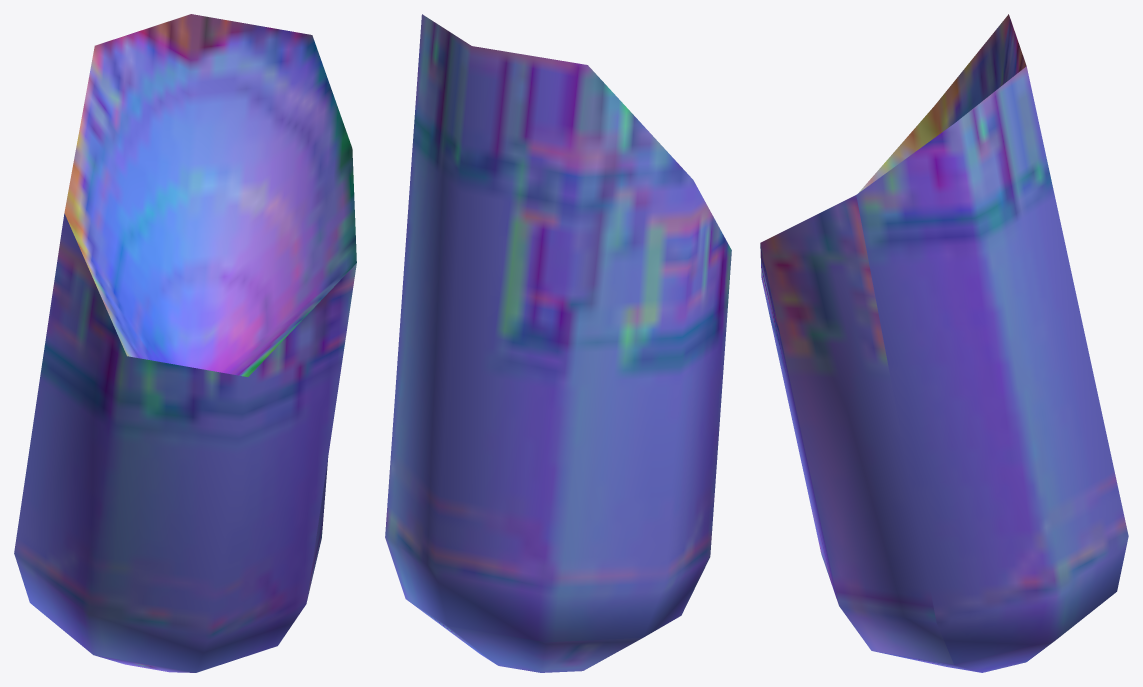
File: ship_debris_05_part_03.glb
The picture shows the model from 3 angles, left to right: view 1: azimuth 30°, elevation 25°; view 2: azimuth 150°, elevation 25°; view 3: azimuth 270°, elevation 25°; orthographic projection.
Parts seen in each view (by area): view 1: ship_debris_05_part_03; view 2: ship_debris_05_part_03; view 3: ship_debris_05_part_03.
Part boxes in pixels (box(x1,y1,x2,y2)): ship_debris_05_part_03: box(14, 14, 356, 672); ship_debris_05_part_03: box(385, 14, 731, 672); ship_debris_05_part_03: box(760, 14, 1128, 672).
Size of the model in its own units: 0.6585 by 1.43 by 0.7763.
1 material, 1 textured.
